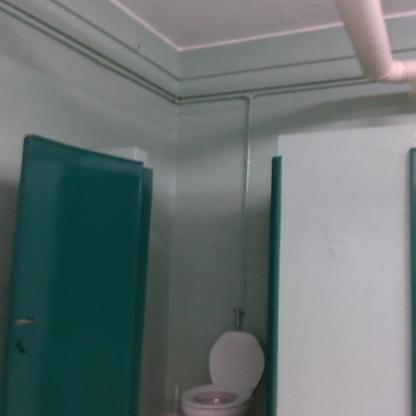open: (11, 110, 322, 416)
